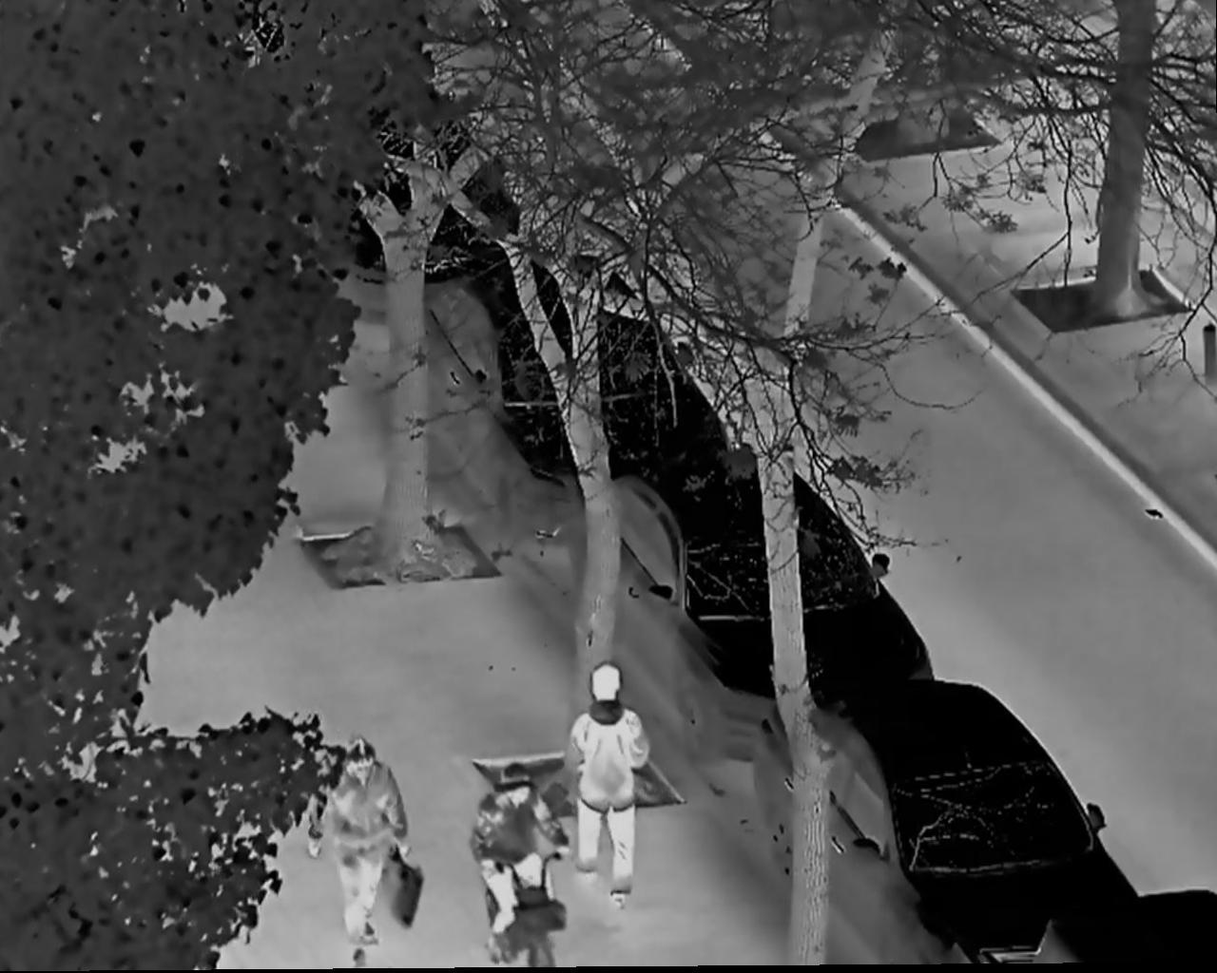person: (307, 739, 412, 973), (469, 762, 570, 973), (570, 663, 643, 912)
